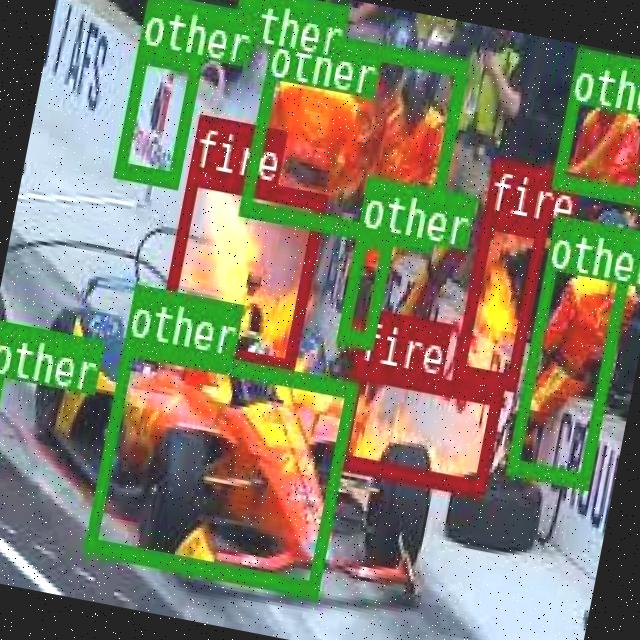fire: (154, 166, 326, 372), (332, 358, 502, 494), (452, 209, 546, 387)
